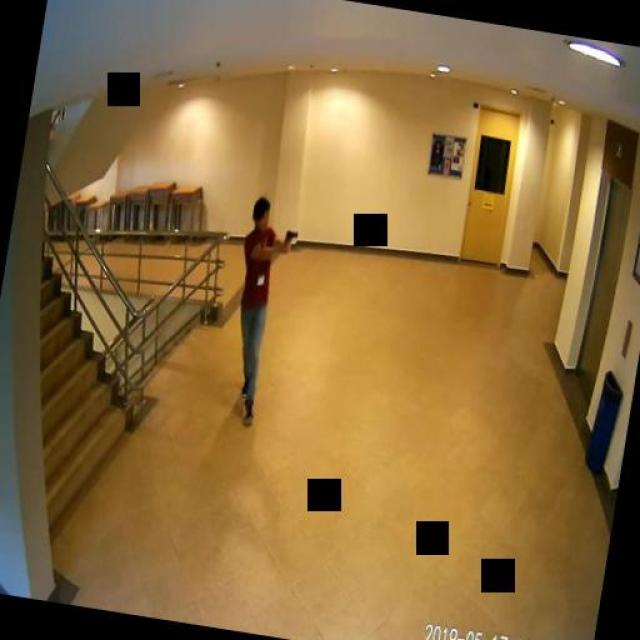gun: (282, 228, 296, 248)
